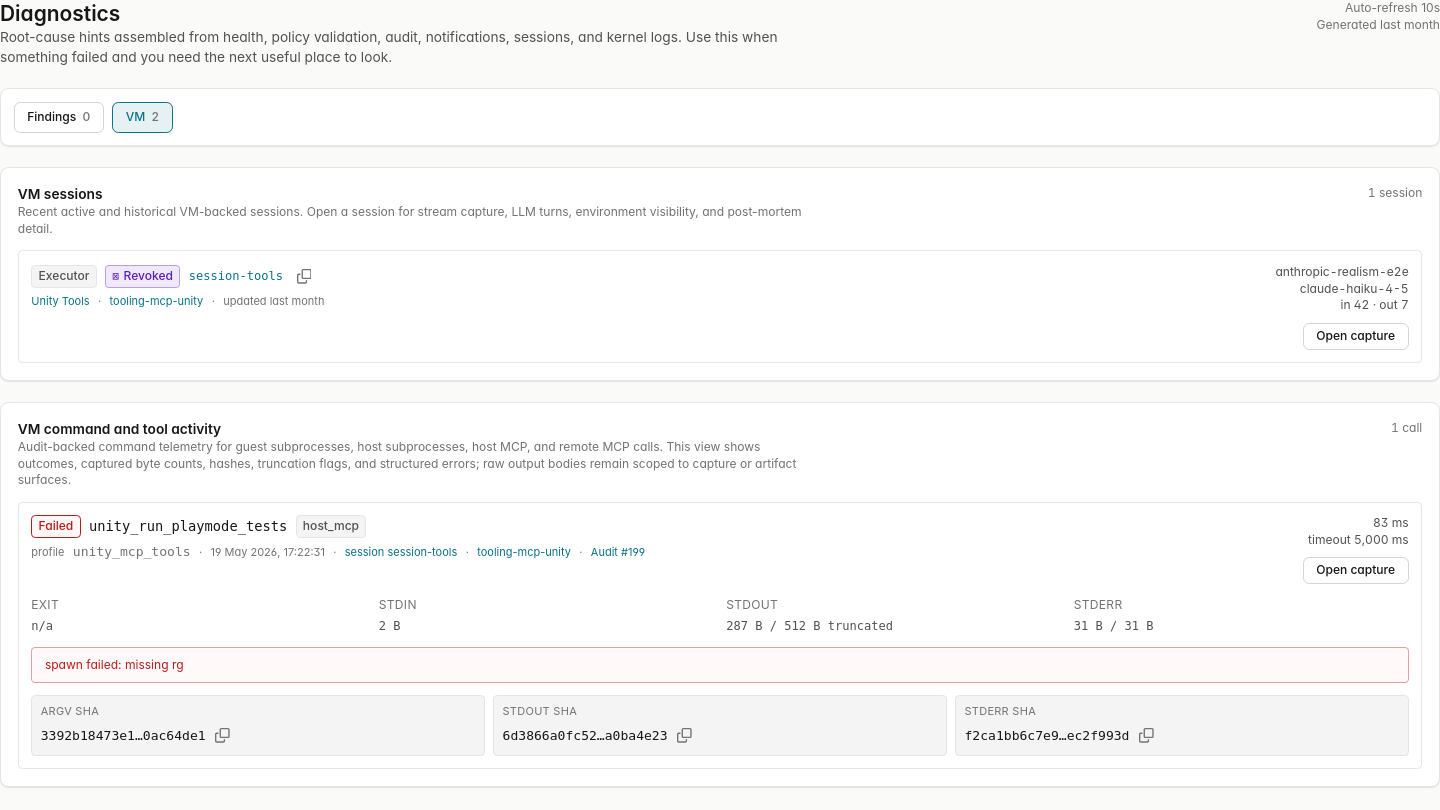
Test: <DiagnosticsPage> VM tab › renders VM sessions, command telemetry, and structured command errors
The width and height of the screenshot is (1440, 810).
Expected: the heading "VM sessions" is shown, [18, 186, 102, 202]
Expected: the number of links "tooling-mcp-unity" is 2, [110, 293, 203, 310]; [477, 544, 571, 560]
Click the button "Open capture" below "timeout" at (1356,571), box [1303, 557, 1409, 584]
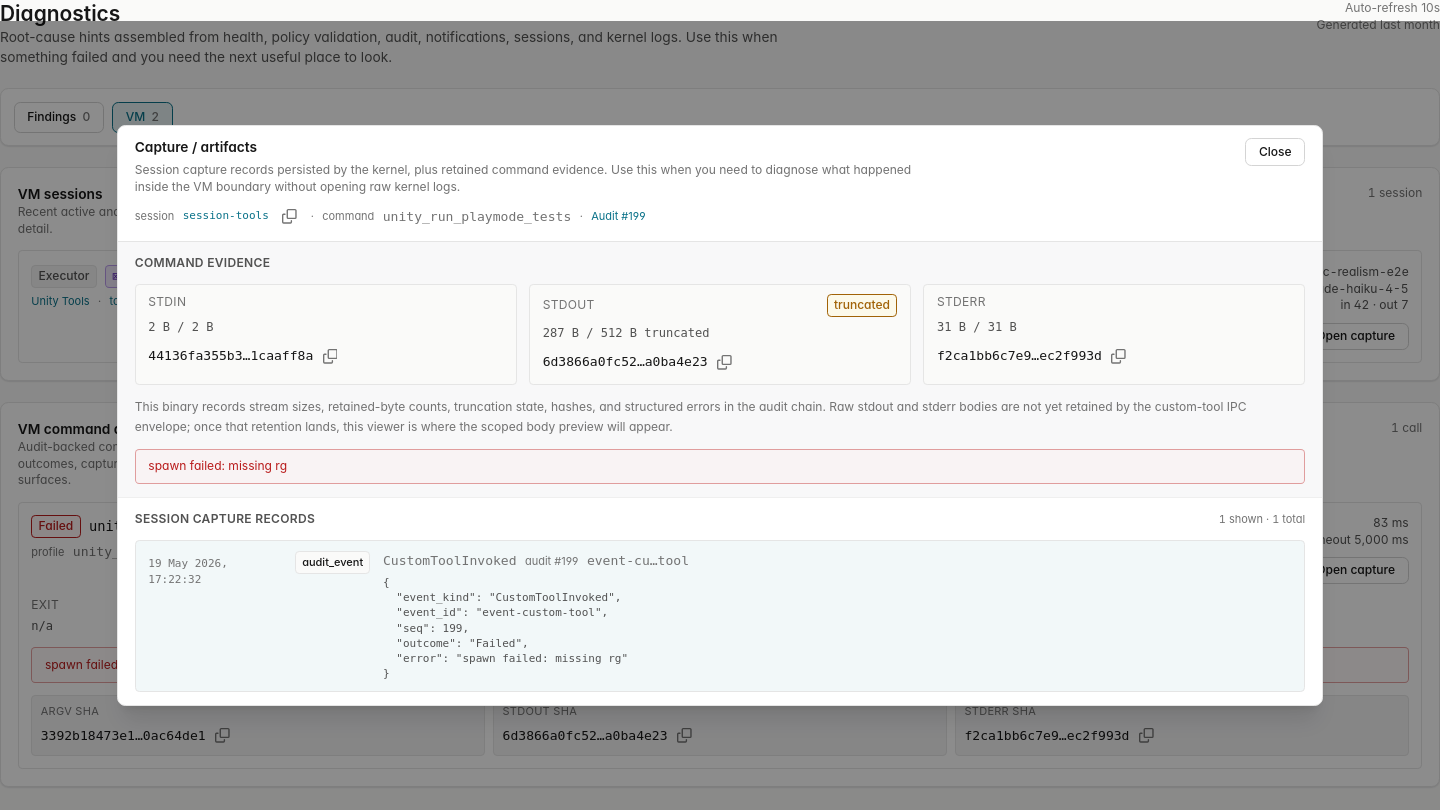
Expected: the heading "Capture / artifacts" is shown, [135, 139, 257, 155]
Expected: the dialog "Capture / artifacts" is shown
Expected: the heading "Command evidence" is shown, [135, 255, 270, 270]
Click the button "Close" at (1275,152), box [1245, 138, 1305, 166]
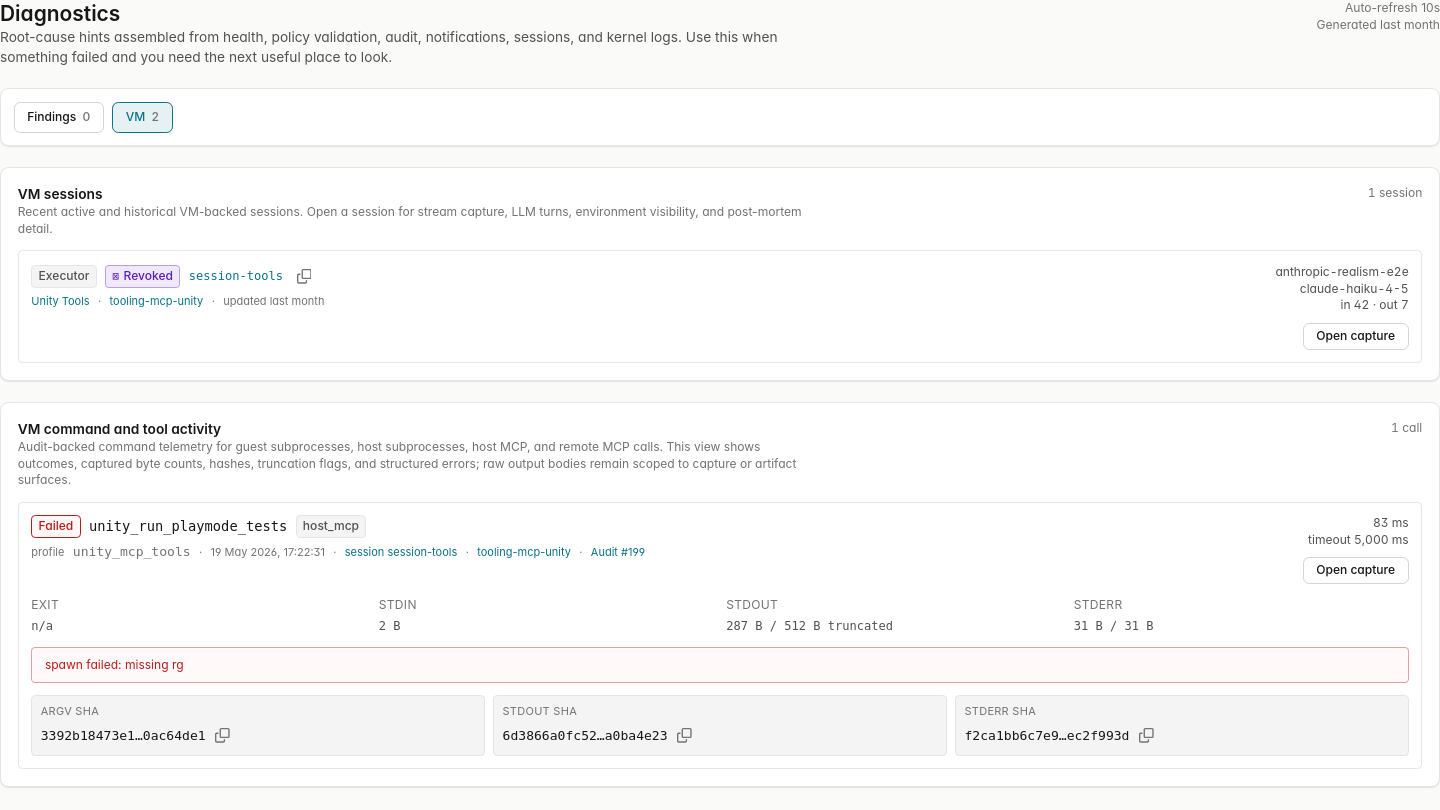
Expected: the heading "Capture / artifacts" is gone
